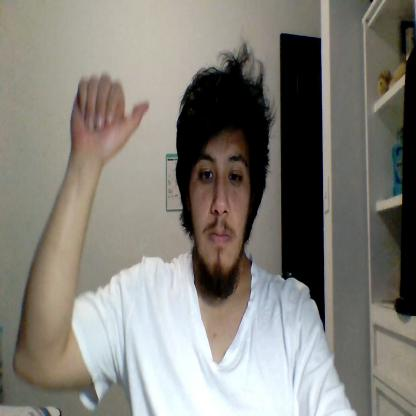A: (70, 73, 149, 162)
